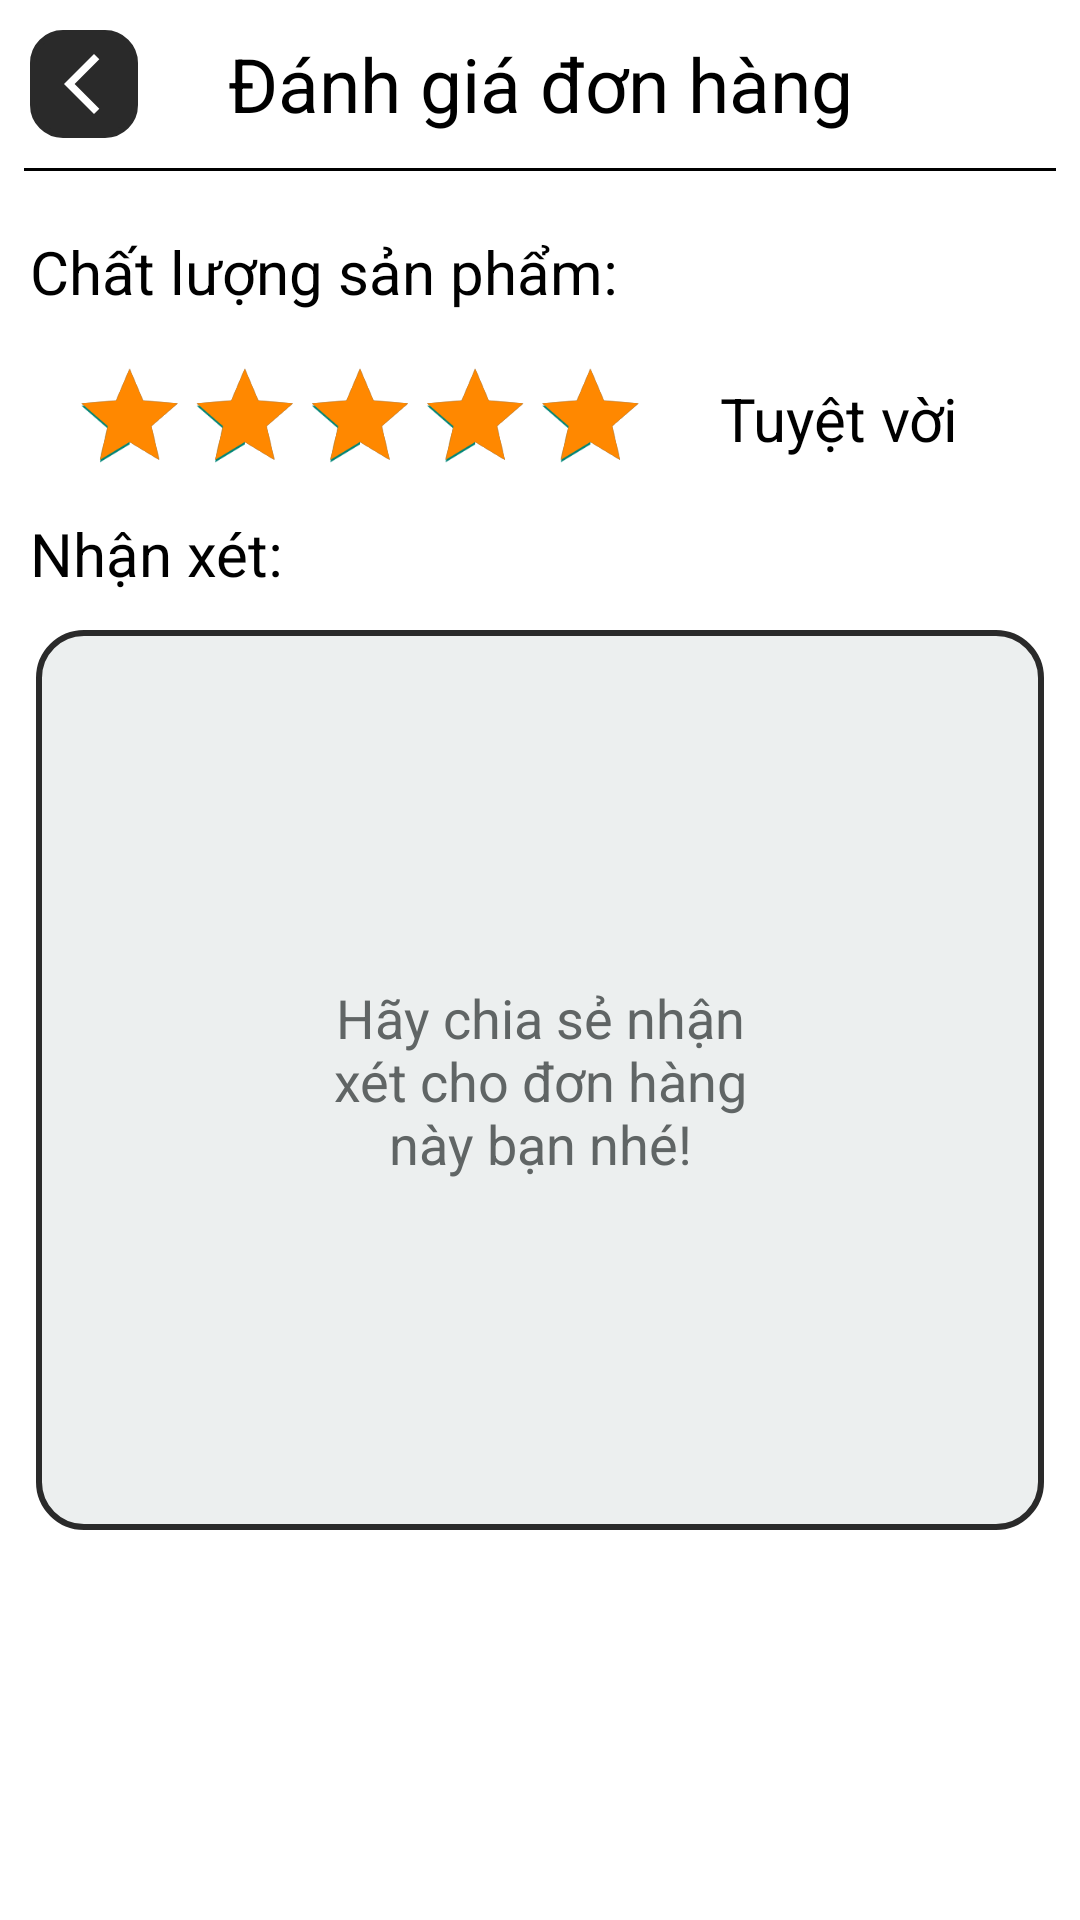

Icon click points for this 1080w x 1920h phone screenshot, format point (x, y):
back: point (81, 84)
